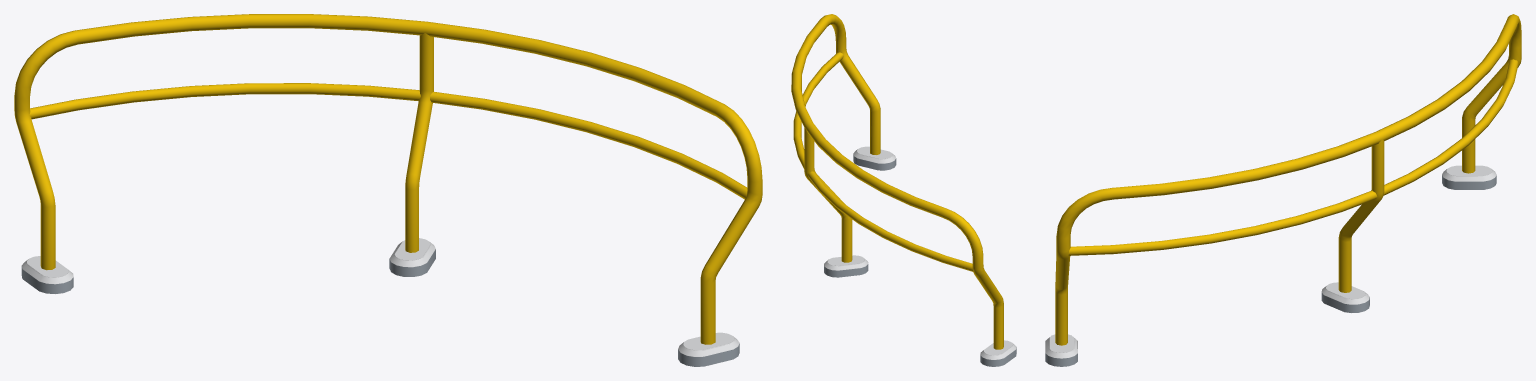
The model's file is Floor_Fence_02.FBX.
3 views of the same model, side by side, from view 1: azimuth 30°, elevation 25°; view 2: azimuth 150°, elevation 25°; view 3: azimuth 270°, elevation 25° (orthographic). The views are drawn at different scales.
Visible parts, largest first — view 1: Floor_Fence_02; view 2: Floor_Fence_02; view 3: Floor_Fence_02.
Part boxes in pixels (bbox=[...]): Floor_Fence_02: bbox=[14, 14, 762, 366]; Floor_Fence_02: bbox=[791, 14, 1016, 366]; Floor_Fence_02: bbox=[1045, 14, 1521, 366].
Size of the model in its own units: 2.63 by 1.13 by 2.63.
